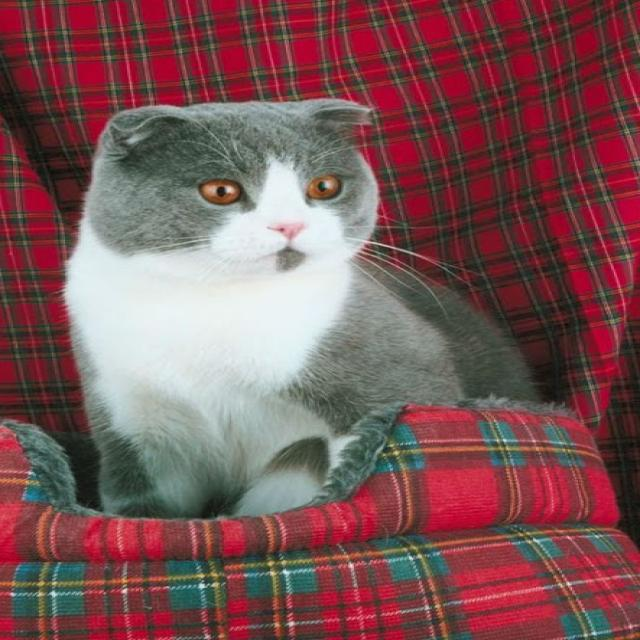Scottish Fold: (52, 89, 545, 522)
